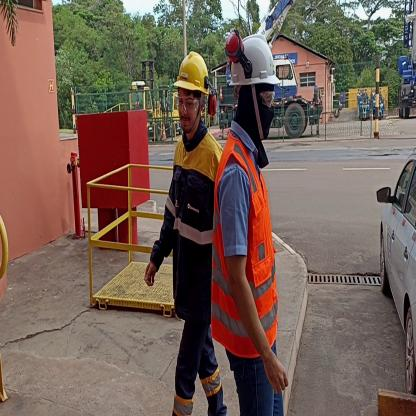Balaclava: (235, 83, 276, 140)
C_eletrica: (166, 130, 221, 318)
Capacete: (229, 33, 282, 81), (171, 50, 213, 92)
colete: (212, 139, 283, 358)
